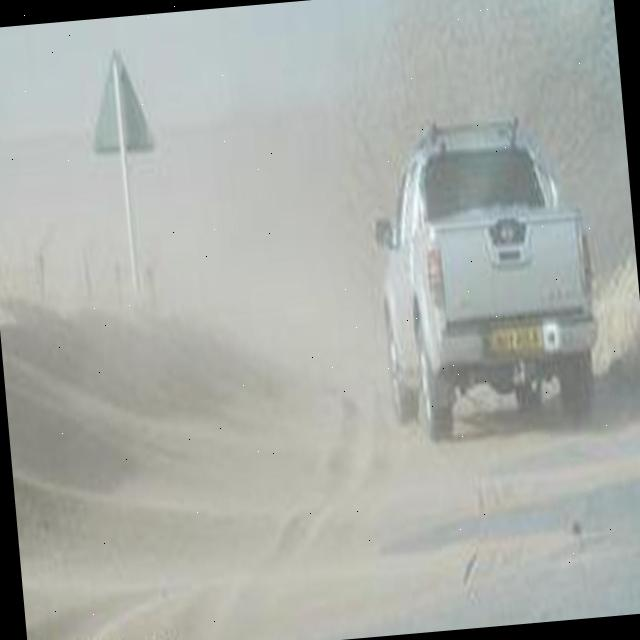car: (362, 121, 602, 442)
